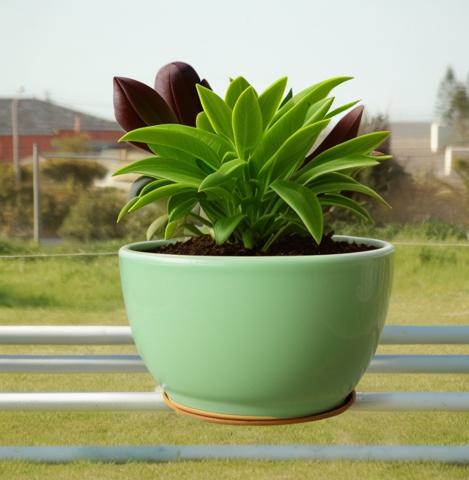person: (153, 61, 323, 263)
pottedplant: (112, 76, 393, 425)
